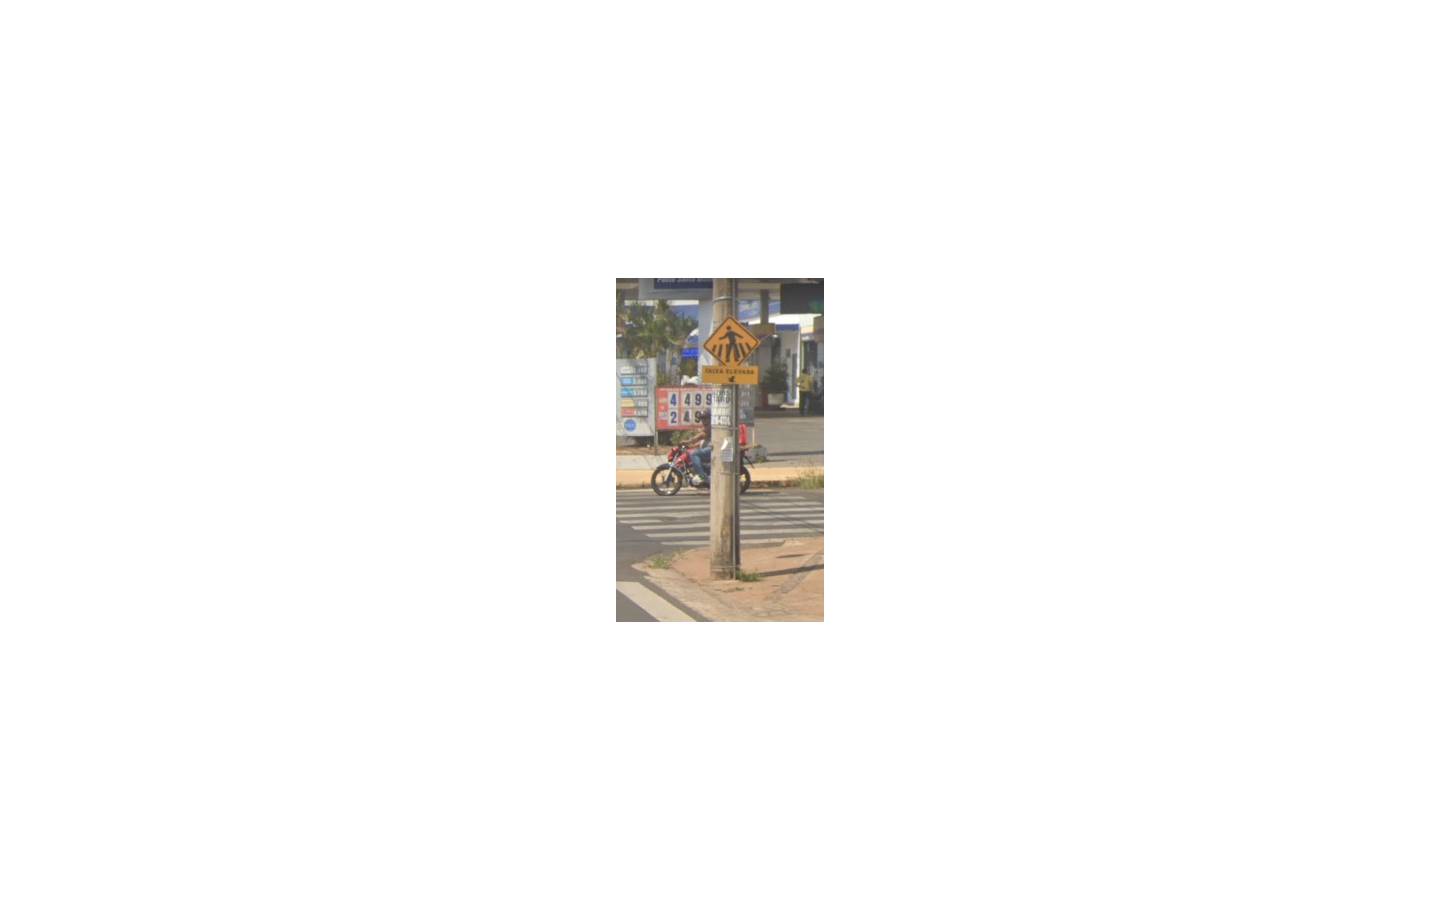telev: (701, 314, 759, 385)
